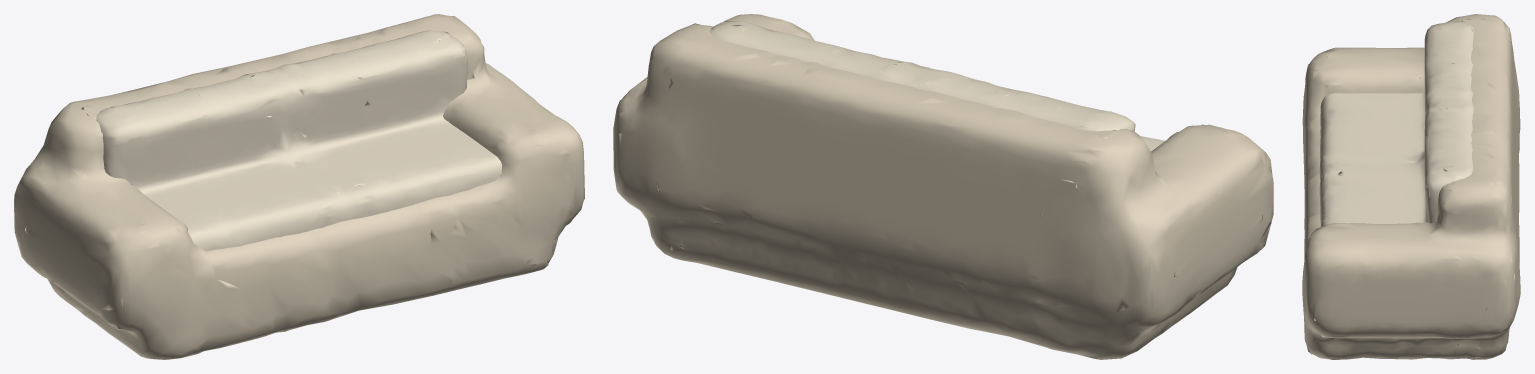
File: sofa.glb
The picture shows the model from 3 angles, left to right: view 1: azimuth 30°, elevation 25°; view 2: azimuth 150°, elevation 25°; view 3: azimuth 270°, elevation 25°; orthographic projection. The views are drawn at different scales.
Visible parts, largest first — view 1: Frame, Cushions; view 2: Frame, Cushions; view 3: Frame, Cushions.
Part boxes in pixels (x1,y1,x2,y2): Frame: (14, 14, 584, 359); Cushions: (96, 30, 502, 251); Frame: (613, 14, 1273, 359); Cushions: (710, 21, 1164, 151); Frame: (1302, 14, 1520, 359); Cushions: (1319, 21, 1474, 226).
Size of the model in its own units: 2.96 by 1.13 by 1.28.
